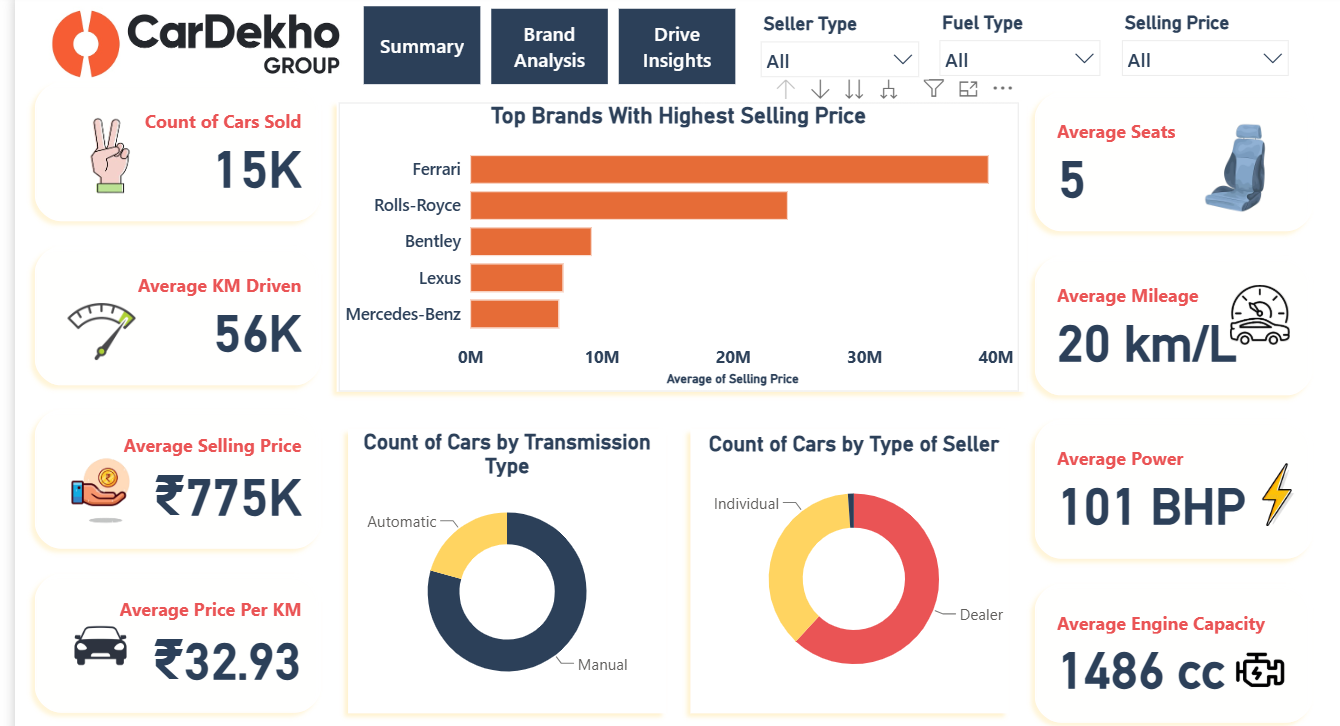

Layout of this report page (visuals, bound fields, positions):
{"tool":"powerbi","page":{"name":"Summary","canvas":[1280,720],"ordinal":0},"visuals":[{"type":"shape","box":[643,410.2,324.5,292],"z":0},{"type":"cardVisual","fields":{"Data":["cars.Count of Cars","cars.Avg KM Driven","cars.Avg SP","cars.Avg Price Per KM"]},"box":[2.4,67.6,310.1,643],"z":1000},{"type":"image","box":[27.7,108.6,126.7,92.9],"z":2000},{"type":"image","box":[20.5,266.6,126.7,120.6],"z":3000},{"type":"image","box":[18.1,423.5,129.1,117],"z":4000},{"type":"image","box":[26.5,577.9,112.2,100.1],"z":5000},{"type":"shape","box":[301.9,94.7,683.4,297.8],"z":6000},{"type":"clusteredBarChart","title":"Top Brands With Highest Selling Price","fields":{"Y":["Avg(cars.selling_price)"],"Category":["cars.brand","cars.car_name"]},"box":[312.9,104.3,655.9,278.6],"z":7000},{"type":"cardVisual","fields":{"Data":["cars.Avg Seats","cars.Avg Mileage","cars.Avg Power STR","cars.Avg Eng Capacity STR"]},"box":[967.6,77.2,302.8,643],"z":8000},{"type":"shape","box":[312.5,410.2,324.5,292],"z":9000},{"type":"donutChart","fields":{"Y":["cars.Count of Cars"],"Category":["cars.seller_type"]},"box":[653.2,421.3,314.2,262.1],"z":10000},{"type":"donutChart","fields":{"Y":["cars.Count of Cars"],"Category":["cars.transmission_type"]},"box":[326.6,418.5,296.4,269],"z":11000},{"type":"image","box":[1167.8,431.9,102.5,101.3],"z":12000},{"type":"image","box":[1167.8,618.9,67.6,65.1],"z":13000},{"type":"image","box":[1119.6,108.6,115.8,117],"z":14000},{"type":"image","box":[1167.8,275.1,67.6,67.6],"z":15000},{"type":"image","box":[27.4,0,293.7,94.7],"z":16000},{"type":"actionButton","box":[336.2,11,112.5,75.5],"z":17000},{"type":"actionButton","box":[459.7,13.7,112.5,72.7],"z":18000},{"type":"actionButton","box":[583.2,13.7,112.5,72.7],"z":19000},{"type":"slicer","title":"Fuel Type","fields":{"Values":["cars.fuel_type"]},"box":[882.3,11,175.6,70],"z":20000},{"type":"slicer","title":"Fuel Type","fields":{"Values":["cars.selling_price"]},"box":[1058,11,181.1,70],"z":21000},{"type":"slicer","title":"Fuel Type","fields":{"Values":["cars.seller_type"]},"box":[709.4,12.3,172.9,70],"z":22000}]}

Visuals, with their boxes on the page's 1280x720 design canvas (x1, y1, x2, y2). These are canvas units, not pixel positions in the 1340x726 screenshot, which may show the page scaled, cropped or inside an application window:
shape: {"left": 643, "top": 410, "right": 968, "bottom": 702}
cardVisual - cars.Count of Cars x cars.Avg KM Driven: {"left": 2, "top": 68, "right": 312, "bottom": 711}
image: {"left": 28, "top": 109, "right": 154, "bottom": 202}
image: {"left": 20, "top": 267, "right": 147, "bottom": 387}
image: {"left": 18, "top": 424, "right": 147, "bottom": 540}
image: {"left": 26, "top": 578, "right": 139, "bottom": 678}
shape: {"left": 302, "top": 95, "right": 985, "bottom": 392}
"Top Brands With Highest Selling Price" clusteredBarChart: {"left": 313, "top": 104, "right": 969, "bottom": 383}
cardVisual - cars.Avg Seats x cars.Avg Mileage: {"left": 968, "top": 77, "right": 1270, "bottom": 720}
shape: {"left": 312, "top": 410, "right": 637, "bottom": 702}
donutChart - cars.Count of Cars x cars.seller_type: {"left": 653, "top": 421, "right": 967, "bottom": 683}
donutChart - cars.Count of Cars x cars.transmission_type: {"left": 327, "top": 418, "right": 623, "bottom": 688}
image: {"left": 1168, "top": 432, "right": 1270, "bottom": 533}
image: {"left": 1168, "top": 619, "right": 1235, "bottom": 684}
image: {"left": 1120, "top": 109, "right": 1235, "bottom": 226}
image: {"left": 1168, "top": 275, "right": 1235, "bottom": 343}
image: {"left": 27, "top": 0, "right": 321, "bottom": 95}
actionButton: {"left": 336, "top": 11, "right": 449, "bottom": 86}
actionButton: {"left": 460, "top": 14, "right": 572, "bottom": 86}
actionButton: {"left": 583, "top": 14, "right": 696, "bottom": 86}
"Fuel Type" slicer: {"left": 882, "top": 11, "right": 1058, "bottom": 81}
"Fuel Type" slicer: {"left": 1058, "top": 11, "right": 1239, "bottom": 81}
"Fuel Type" slicer: {"left": 709, "top": 12, "right": 882, "bottom": 82}
